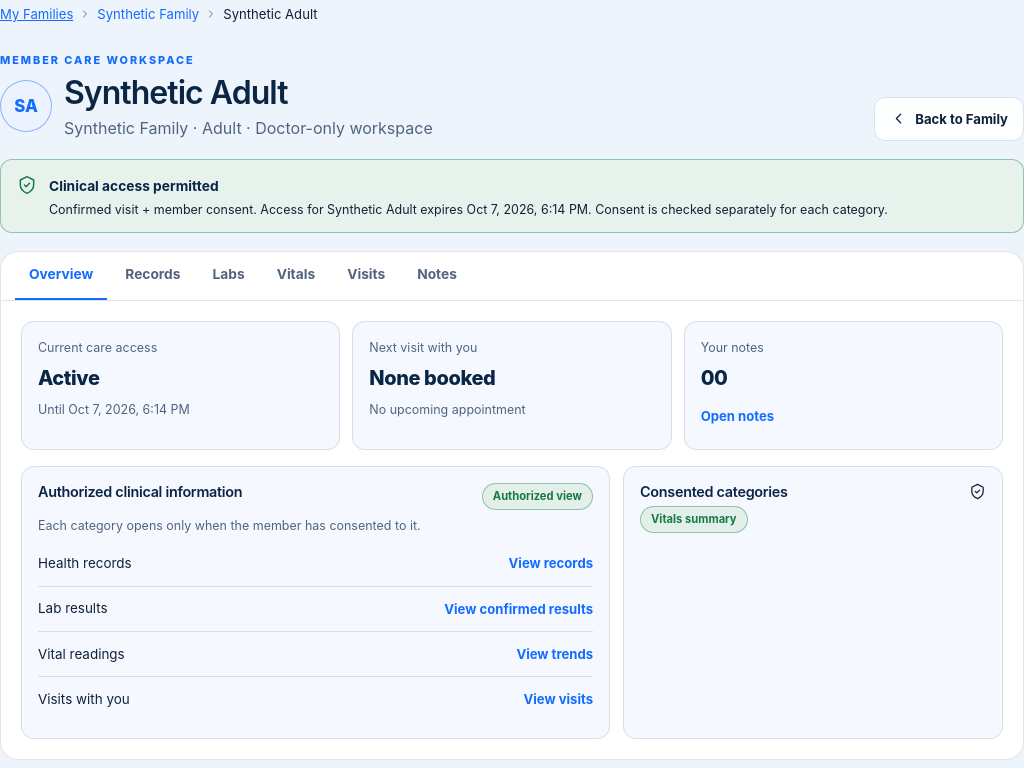
Test case: DoctorMemberPage › groups vitals by type and unit with readable names and never builds a trend from one reading
Click the tab "Vitals" at (296, 276), box [263,252,329,300]
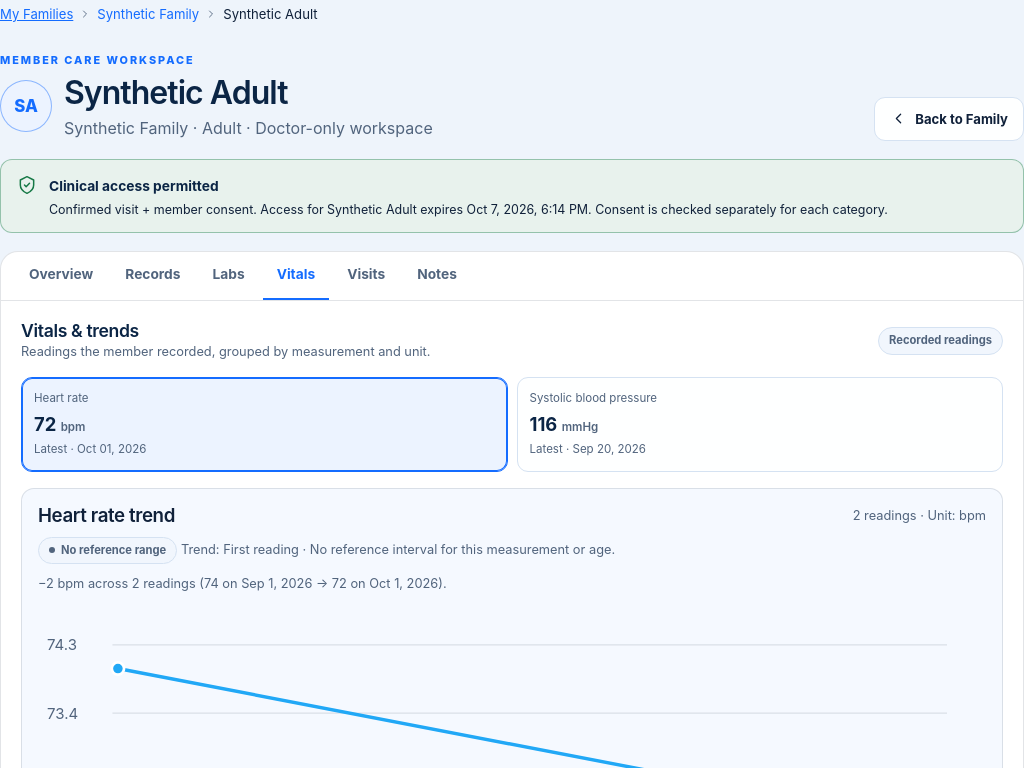
Click the button "Systolic blood pressure 116 mmHg Latest · Sep 20, 2026" at (593, 398), box [516,378,1003,472]
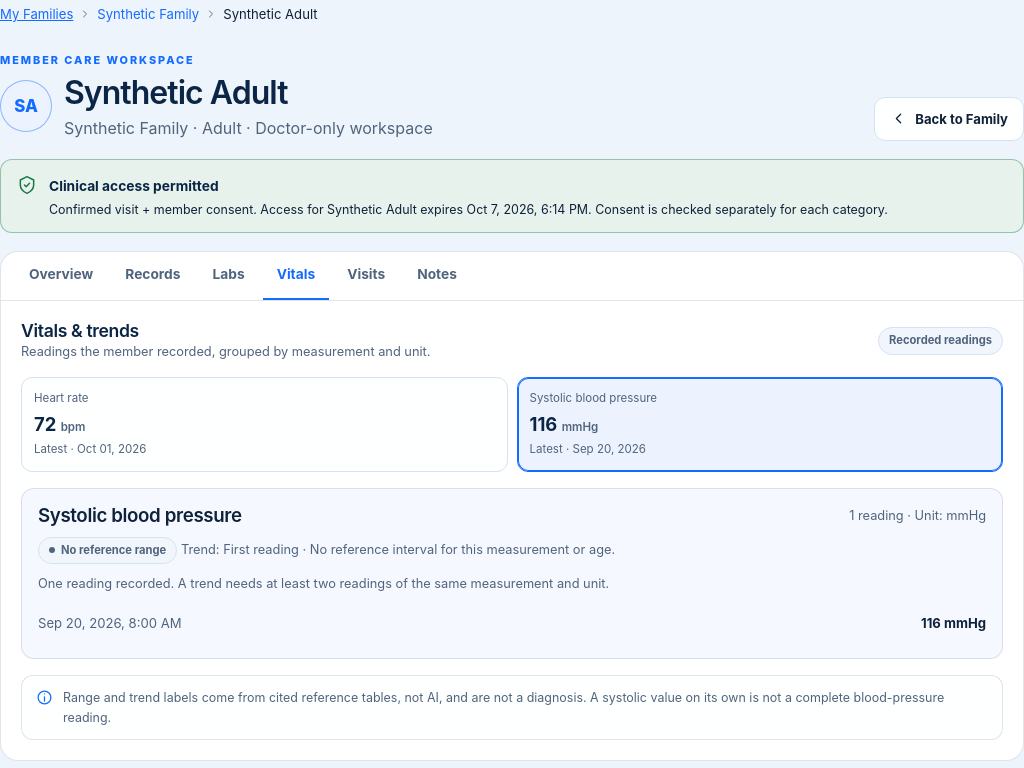
Expected: the text "One reading recorded" is shown, [38,576,609,591]
